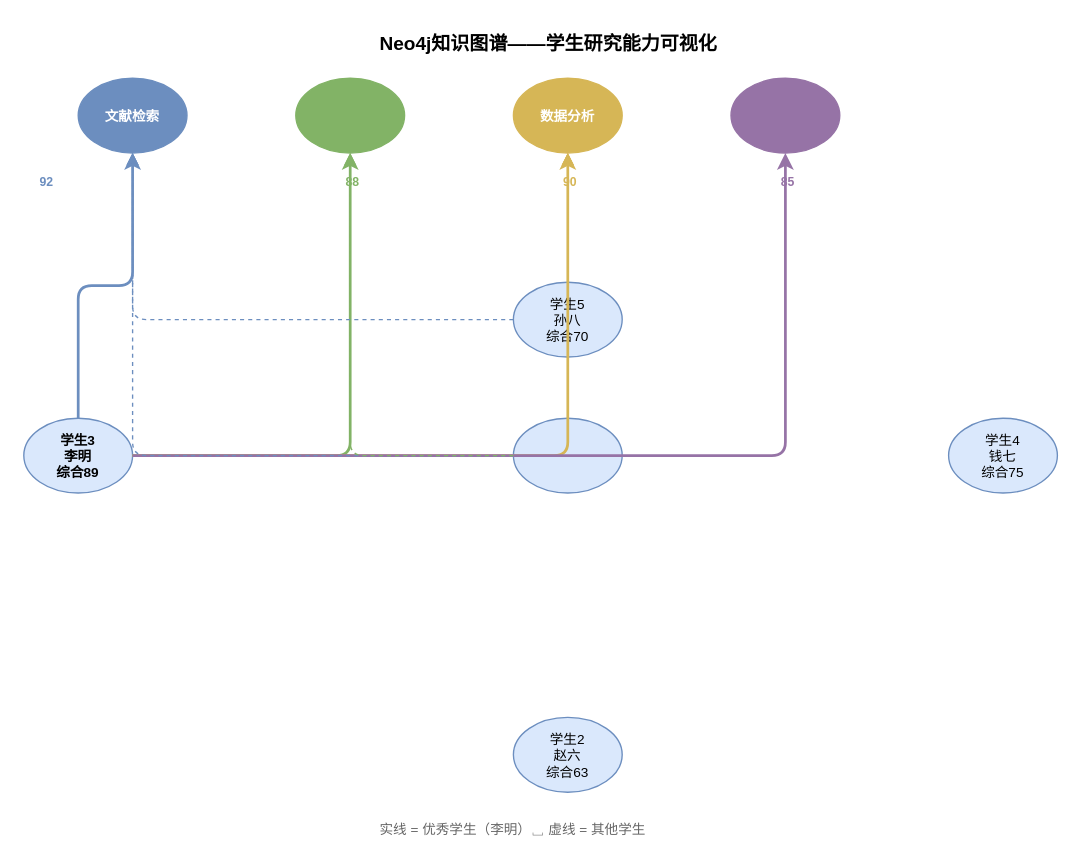
The diagram is 1081 pixels wide and 862 high, and some of its shapes have lost their labels. Each missing label, with the centre of its shape:
"学生1 王五 综合78" goes at point 567,455.
"批判思维" goes at point 785,115.
"研究设计" goes at point 349,115.
